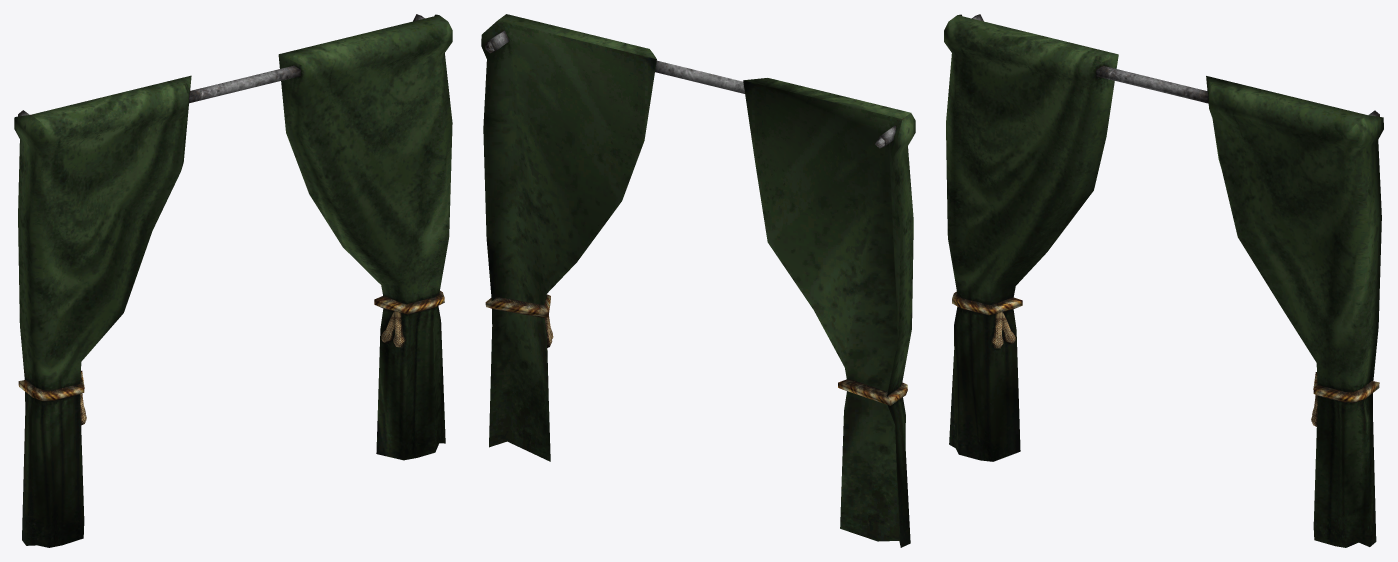
The model's file is curtain07_open.dae.
The picture shows the model from 3 angles, left to right: view 1: azimuth 30°, elevation 25°; view 2: azimuth 150°, elevation 25°; view 3: azimuth 330°, elevation 25°; orthographic projection.
Visible parts, largest first — view 1: curtain01_open; view 2: curtain01_open; view 3: curtain01_open.
Part boxes in pixels (<box>): curtain01_open: <box>14,14,452,547</box>; curtain01_open: <box>481,14,915,547</box>; curtain01_open: <box>944,14,1383,547</box>.
Size of the model in its own units: 3.75 by 3.68 by 0.4366.
